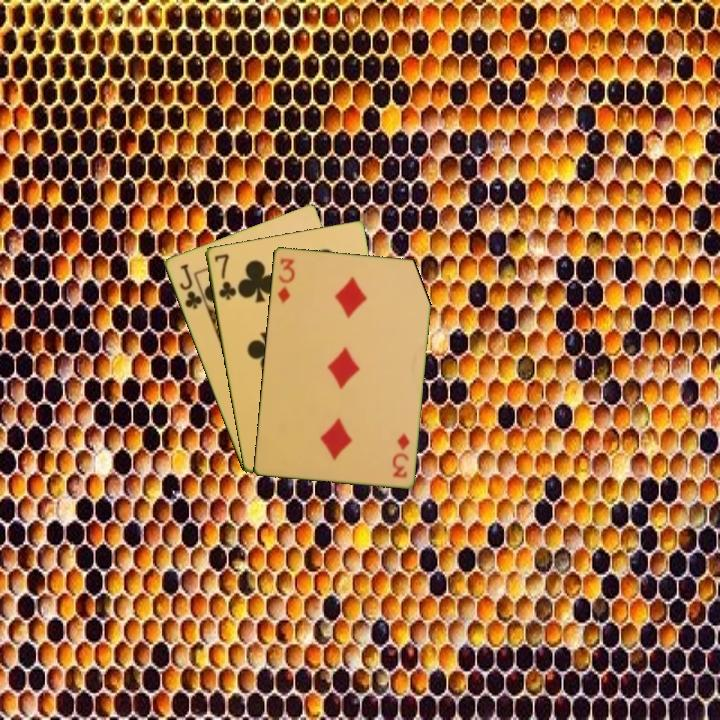3d: (273, 254, 297, 305), (389, 429, 412, 480)
7c: (210, 250, 238, 303)
Jc: (175, 260, 205, 312)
